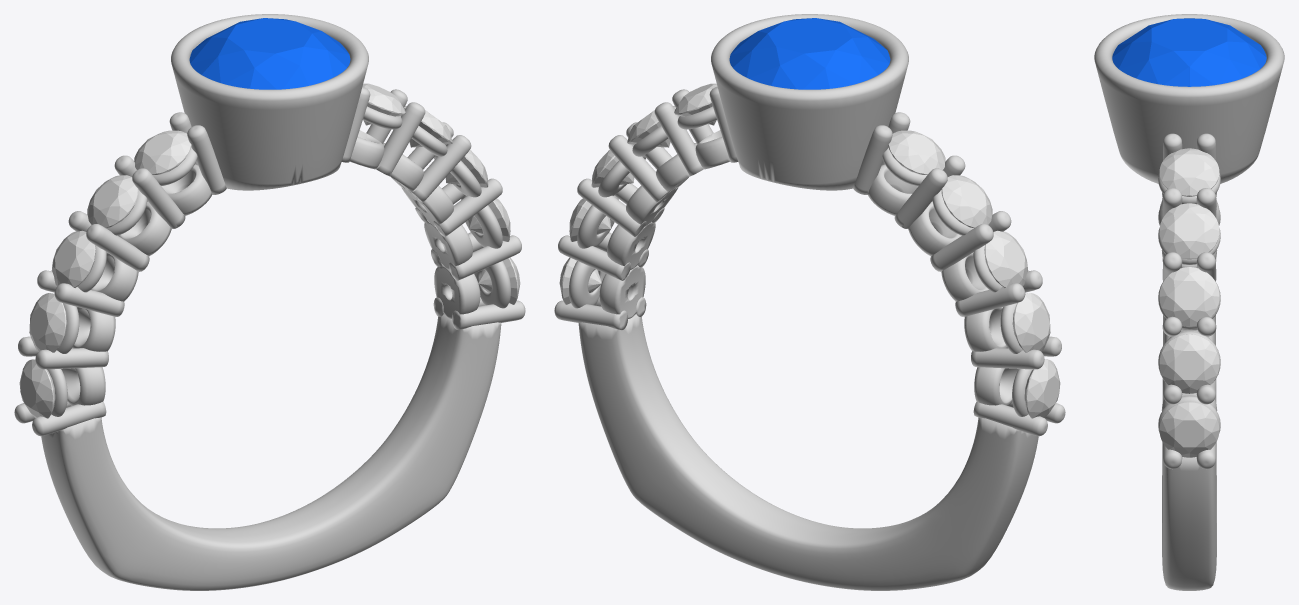
File: bluesapphire-round-platinum-bezelset-europeanshank-5stone.glb
The picture shows the model from 3 angles, left to right: view 1: azimuth 30°, elevation 25°; view 2: azimuth 150°, elevation 25°; view 3: azimuth 270°, elevation 25°; orthographic projection. The views are drawn at different scales.
Visible parts, largest first — view 1: metal, stone, side.006, side.007, side.005, side.008, side.009, side, side.001, side.004, side.003; view 2: metal, stone, side.006, side.007, side.005, side.008, side.009, side, side.001, side.004, side.003; view 3: metal, stone, side.003, side.002, side.001, side.004, side.
Part boxes in pixels (x1=…): metal: x1=14, y1=14, x2=525, y2=590; stone: x1=189, y1=18, x2=350, y2=89; side.006: x1=87, y1=175, x2=138, y2=227; side.007: x1=51, y1=230, x2=95, y2=287; side.005: x1=134, y1=130, x2=191, y2=174; side.008: x1=29, y1=293, x2=67, y2=352; side.009: x1=19, y1=359, x2=55, y2=418; side: x1=362, y1=83, x2=405, y2=125; side.001: x1=403, y1=106, x2=452, y2=147; side.004: x1=478, y1=257, x2=520, y2=304; side.003: x1=469, y1=198, x2=510, y2=241; metal: x1=554, y1=14, x2=1065, y2=590; stone: x1=729, y1=18, x2=890, y2=89; side.006: x1=941, y1=175, x2=992, y2=227; side.007: x1=984, y1=230, x2=1028, y2=287; side.005: x1=888, y1=130, x2=945, y2=174; side.008: x1=1012, y1=293, x2=1050, y2=352; side.009: x1=1024, y1=359, x2=1060, y2=418; side: x1=674, y1=83, x2=717, y2=125; side.001: x1=627, y1=106, x2=676, y2=147; side.004: x1=559, y1=257, x2=601, y2=304; side.003: x1=569, y1=198, x2=610, y2=241; metal: x1=1094, y1=14, x2=1284, y2=590; stone: x1=1112, y1=18, x2=1266, y2=86; side.003: x1=1159, y1=334, x2=1219, y2=393; side.002: x1=1159, y1=267, x2=1219, y2=326; side.001: x1=1159, y1=203, x2=1219, y2=259; side.004: x1=1159, y1=402, x2=1219, y2=457; side: x1=1159, y1=148, x2=1219, y2=196.
Bounding box in the file's own units: 22.63 × 23.81 × 7.94.
